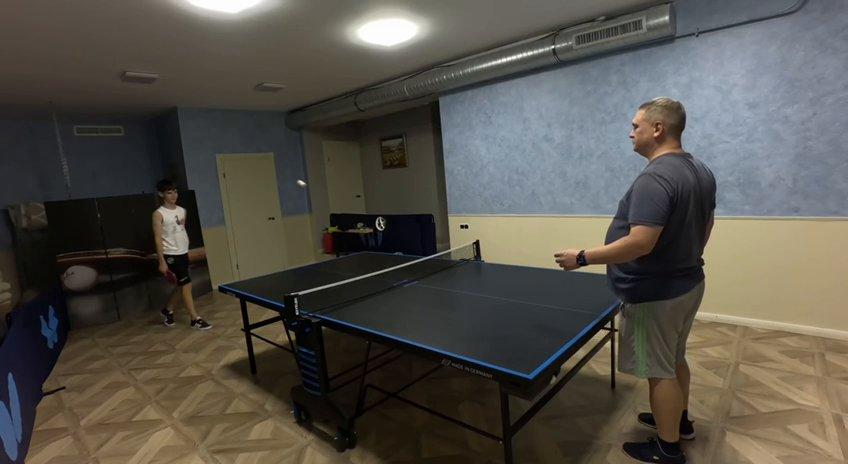Ball: (297, 180, 307, 188)
Net: (282, 241, 481, 319)
Player1: (152, 179, 201, 325)
Player2: (575, 98, 716, 463)
Table: (218, 242, 627, 375)
